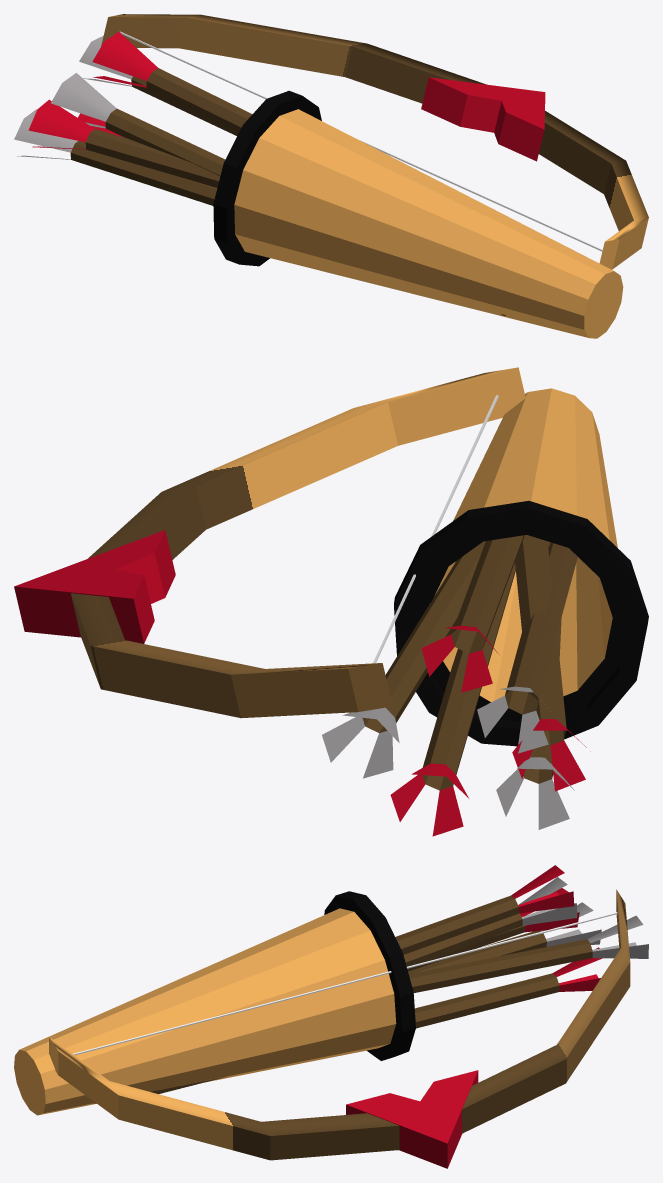
Rendered from bow.obj.
The picture shows the model from 3 angles, top to bottom: view 1: azimuth 30°, elevation 25°; view 2: azimuth 150°, elevation 25°; view 3: azimuth 270°, elevation 25°; orthographic projection. The views are drawn at different scales.
Parts seen in each view (by area): view 1: Cylinder, Cylinder.005, Plane, Cylinder.002_Cylinder.006, Cylinder.002_Cylinder.004, Cylinder.002_Cylinder.005, Cylinder.002_Cylinder.003, Cylinder.002_Cylinder.002, Cube.001_Cube.002; view 2: Cylinder, Cylinder.005, Plane, Cylinder.002_Cylinder.002, Cylinder.002_Cylinder.001, Cylinder.002_Cylinder.005, Cylinder.002_Cylinder.006, Cylinder.002_Cylinder.004, Cylinder.002_Cylinder.003, Cube.001_Cube.002; view 3: Cylinder, Cylinder.005, Plane, Cylinder.002_Cylinder.002, Cylinder.002_Cylinder.001, Cylinder.002_Cylinder.004, Cylinder.002_Cylinder.005, Cylinder.002_Cylinder.003, Cube.001_Cube.002, Cylinder.002_Cylinder.006.
Boxes of the visible parts, box(x1,y1,x2,y2) form: Cylinder: box(213, 90, 623, 338); Cylinder.005: box(101, 14, 648, 269); Plane: box(421, 77, 545, 161); Cylinder.002_Cylinder.006: box(28, 99, 220, 187); Cylinder.002_Cylinder.004: box(92, 32, 252, 132); Cylinder.002_Cylinder.005: box(51, 73, 505, 315); Cylinder.002_Cylinder.003: box(14, 109, 217, 205); Cylinder.002_Cylinder.002: box(79, 36, 238, 135); Cube.001_Cube.002: box(120, 31, 602, 251); Cylinder: box(394, 388, 648, 746); Cylinder.005: box(71, 367, 525, 718); Plane: box(14, 530, 175, 643); Cylinder.002_Cylinder.002: box(322, 541, 485, 778); Cylinder.002_Cylinder.001: box(390, 563, 515, 836); Cylinder.002_Cylinder.005: box(477, 542, 577, 753); Cylinder.002_Cylinder.006: box(512, 535, 590, 791); Cylinder.002_Cylinder.004: box(421, 535, 524, 692); Cylinder.002_Cylinder.003: box(496, 541, 574, 829); Cube.001_Cube.002: box(373, 395, 498, 663); Cylinder: box(14, 891, 415, 1115); Cylinder.005: box(49, 889, 630, 1160); Plane: box(346, 1070, 478, 1168); Cylinder.002_Cylinder.002: box(409, 915, 648, 992); Cylinder.002_Cylinder.001: box(93, 947, 602, 1103); Cylinder.002_Cylinder.004: box(395, 865, 574, 954); Cylinder.002_Cylinder.005: box(403, 877, 577, 966); Cylinder.002_Cylinder.003: box(408, 902, 601, 973); Cube.001_Cube.002: box(73, 912, 617, 1055); Cylinder.002_Cylinder.006: box(407, 888, 579, 971).
Size of the model in its own units: 30.33 by 10.34 by 37.52.
1 material, 1 textured.
